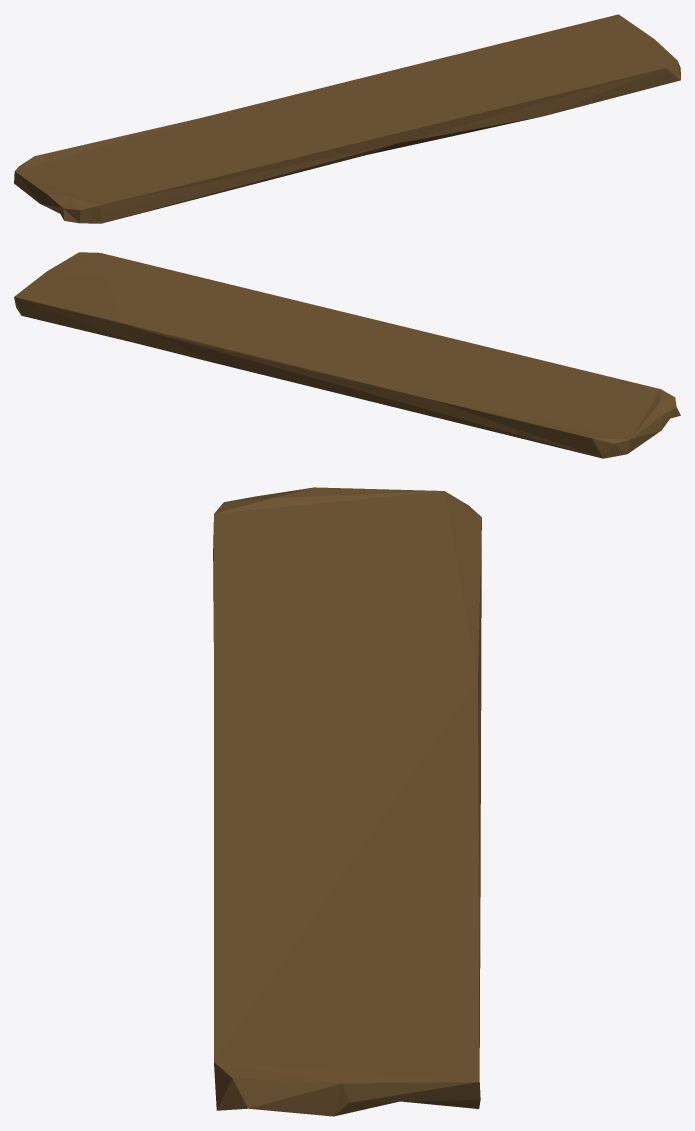
Rendered from Board_03.fbx.
3 renders of one model, top to bottom at view 1: azimuth 30°, elevation 25°; view 2: azimuth 150°, elevation 25°; view 3: azimuth 270°, elevation 25°, orthographic. The views are drawn at different scales.
Parts seen in each view (by area): view 1: Board_03; view 2: Board_03; view 3: Board_03.
Boxes of the visible parts, <box> form: Board_03: <box>14,14,680,223</box>; Board_03: <box>14,252,680,458</box>; Board_03: <box>213,487,481,1116</box>.
Size of the model in its own units: 1.69 by 0.0572 by 0.3207.
